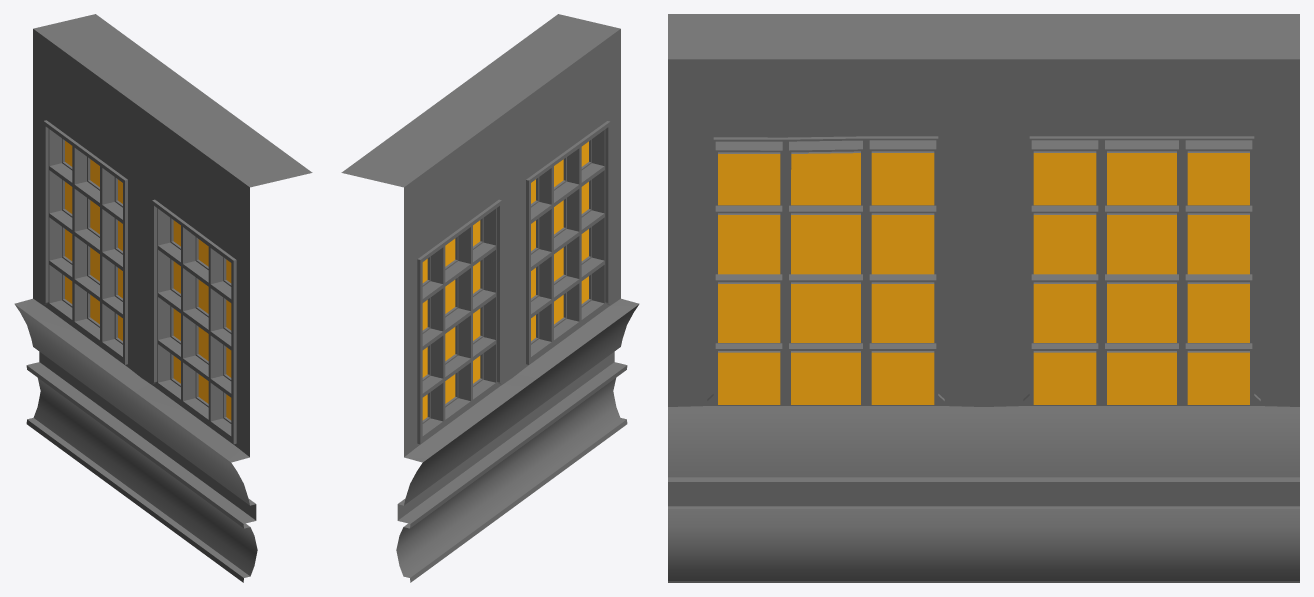
File: O3_Facade_Boutique_Fenetre_Double_Rebord_simlple.fbx
3 views of the same model, side by side, from view 1: azimuth 30°, elevation 25°; view 2: azimuth 150°, elevation 25°; view 3: azimuth 270°, elevation 25° (orthographic). The views are drawn at different scales.
Parts seen in each view (by area): view 1: O3_Facade_Boutique_Fenetre_Double_Rebord_simlple; view 2: O3_Facade_Boutique_Fenetre_Double_Rebord_simlple; view 3: O3_Facade_Boutique_Fenetre_Double_Rebord_simlple.
Part boxes in pixels (x1,y1,x2,y2): O3_Facade_Boutique_Fenetre_Double_Rebord_simlple: (14,14,312,582); O3_Facade_Boutique_Fenetre_Double_Rebord_simlple: (341,14,639,582); O3_Facade_Boutique_Fenetre_Double_Rebord_simlple: (668,14,1299,582).
Bounding box in the file's own units: 0.65 × 3 × 3.
